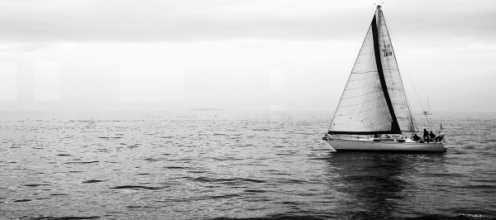fanchuan: (322, 1, 461, 154)
